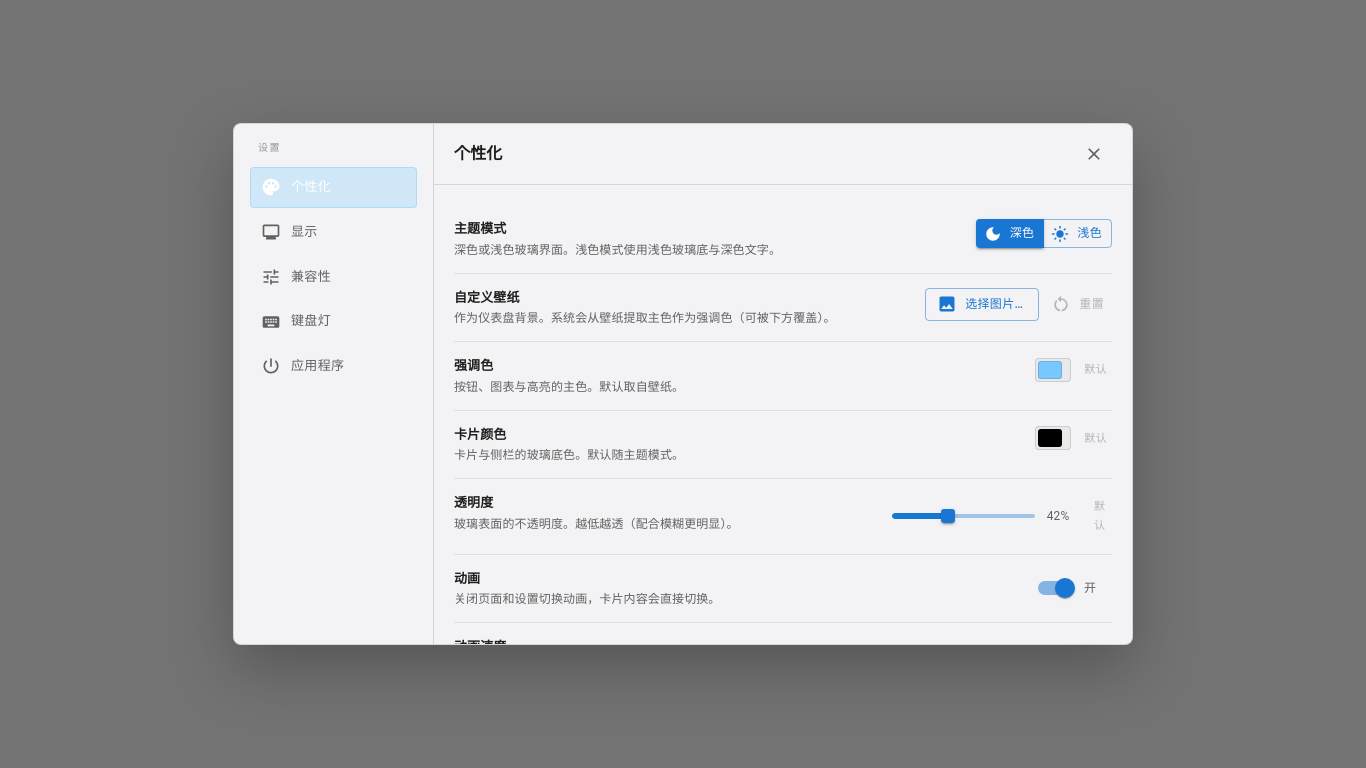
Test: SettingsDialog › switches to the compatibility section with explanations
Click the button "兼容性" at (334, 277), box [250, 256, 417, 297]
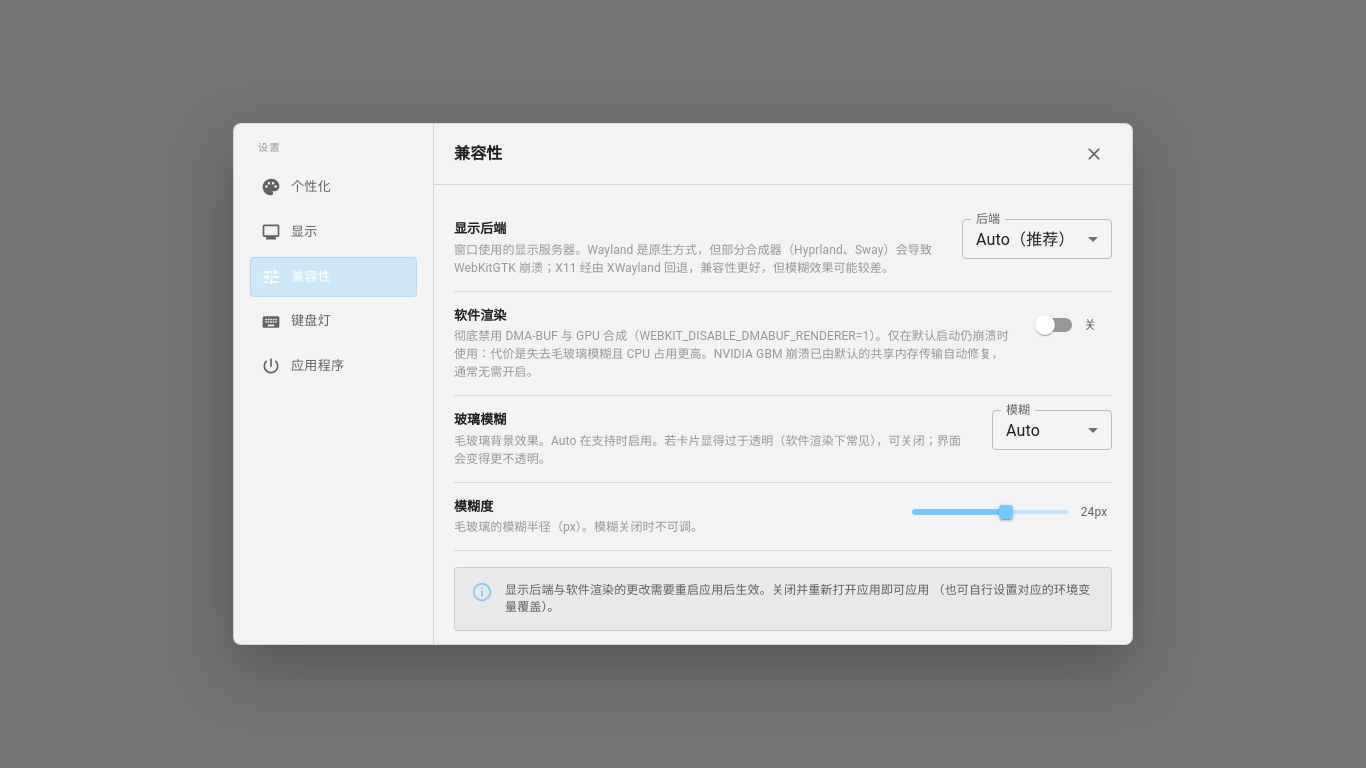
Result: the text "显示后端" is shown at [454, 221, 506, 236]
Result: the text "软件渲染" is shown at [454, 308, 506, 322]
Result: the text "玻璃模糊" is shown at [454, 412, 506, 427]
